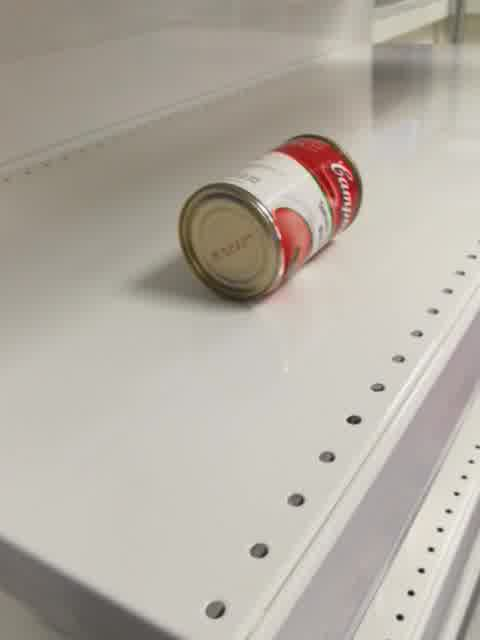tomatosoup: (175, 133, 364, 303)
